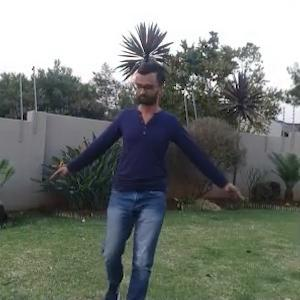land: (67, 56, 202, 283)
